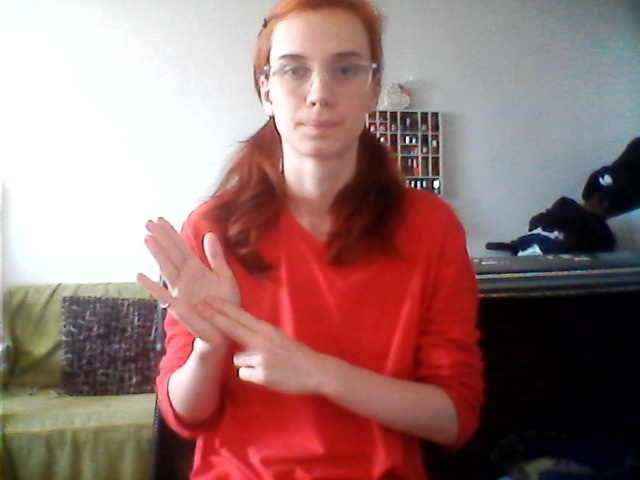n: (126, 211, 316, 400)
